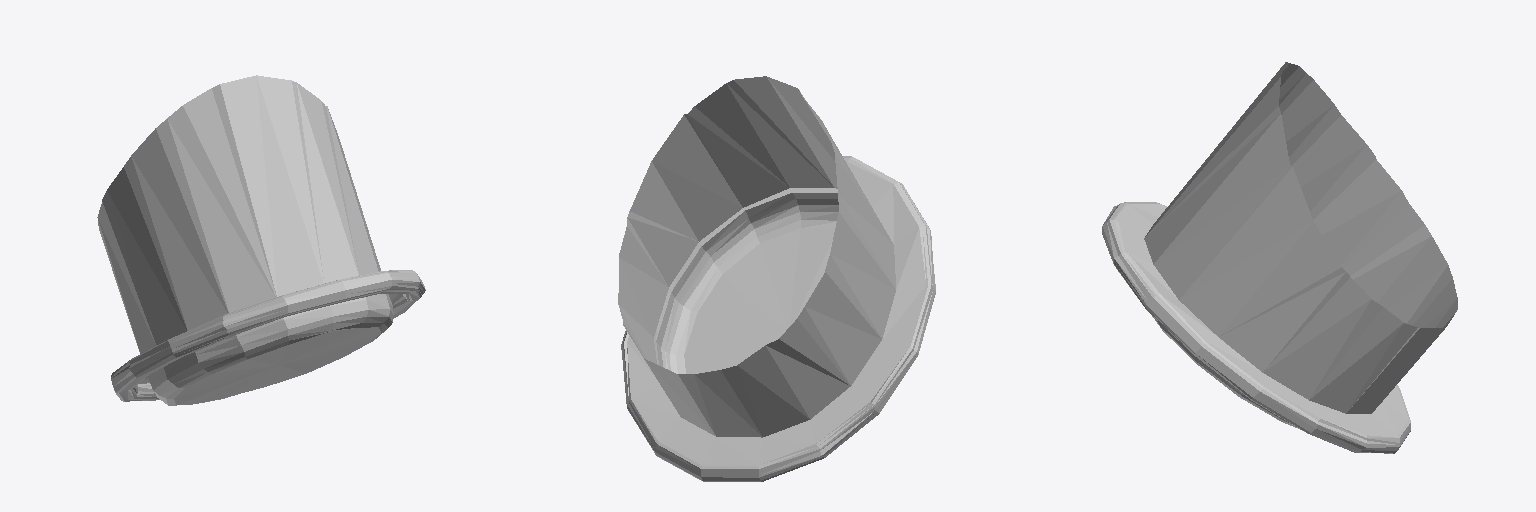
The model's file is monitoring_unit_3.obj.
3 renders of one model, left to right at view 1: azimuth 30°, elevation 25°; view 2: azimuth 150°, elevation 25°; view 3: azimuth 270°, elevation 25°, orthographic.
Parts seen in each view (by area): view 1: monitoring_unit_fuel_unit.001; view 2: monitoring_unit_fuel_unit.001; view 3: monitoring_unit_fuel_unit.001.
Part boxes in pixels (x1,y1,x2,y2): monitoring_unit_fuel_unit.001: (97,75,425,405); monitoring_unit_fuel_unit.001: (618,76,935,481); monitoring_unit_fuel_unit.001: (1102,62,1457,453).
Size of the model in its own units: 0.0001 by 0.0002 by 0.0002.